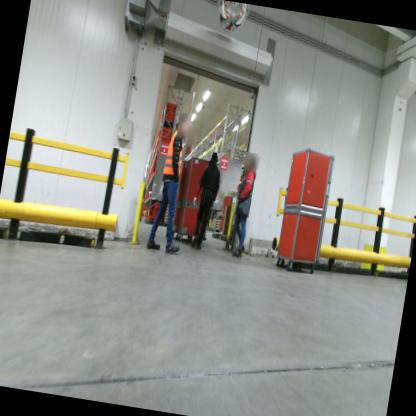pallet: (143, 215, 163, 227), (159, 118, 175, 128), (162, 220, 173, 228), (211, 231, 222, 239), (219, 234, 229, 241), (213, 214, 224, 220), (210, 228, 220, 234), (207, 227, 212, 232)
